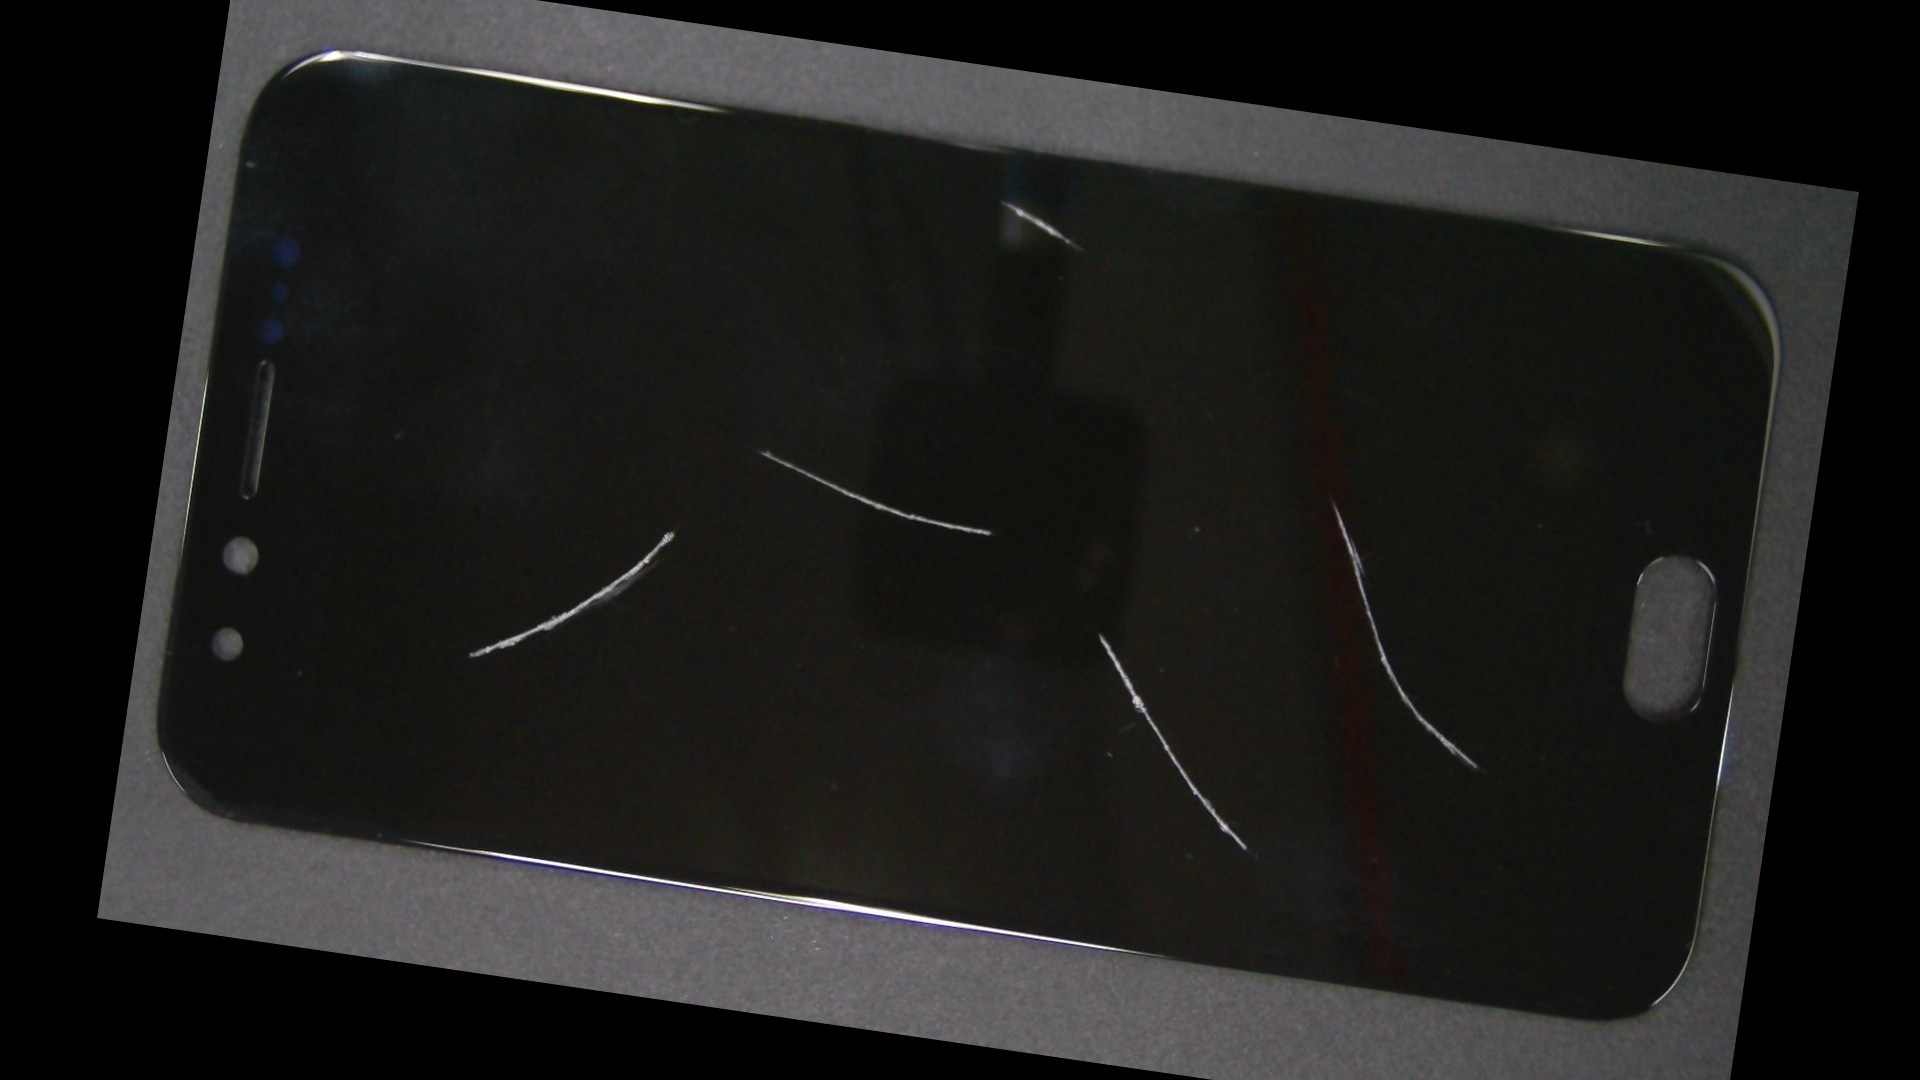oil: (589, 293, 1610, 972), (731, 228, 1832, 760), (384, 244, 965, 819), (443, 203, 1089, 699), (601, 78, 1404, 323)
